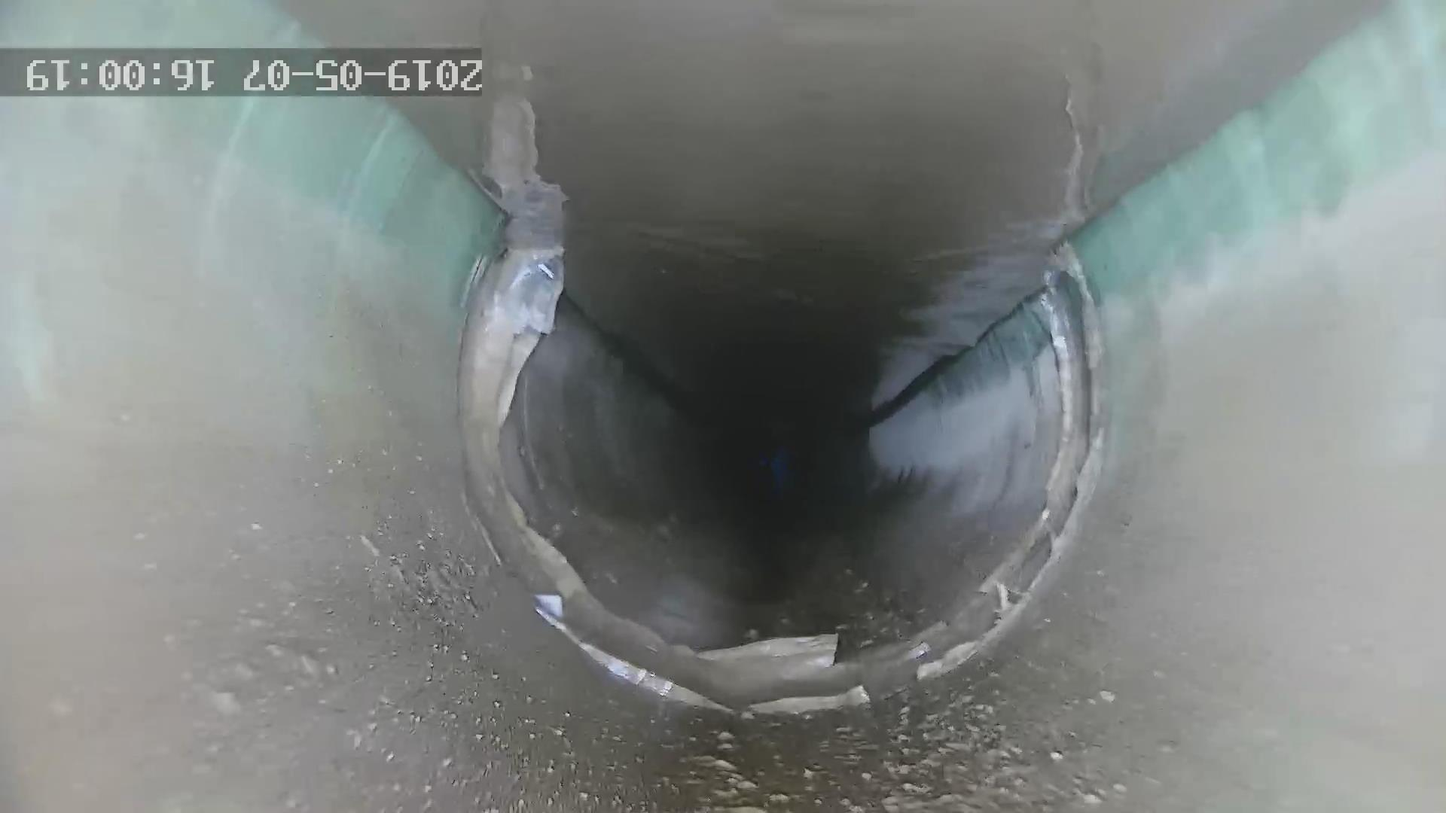JKCL: (459, 242, 1103, 714)
